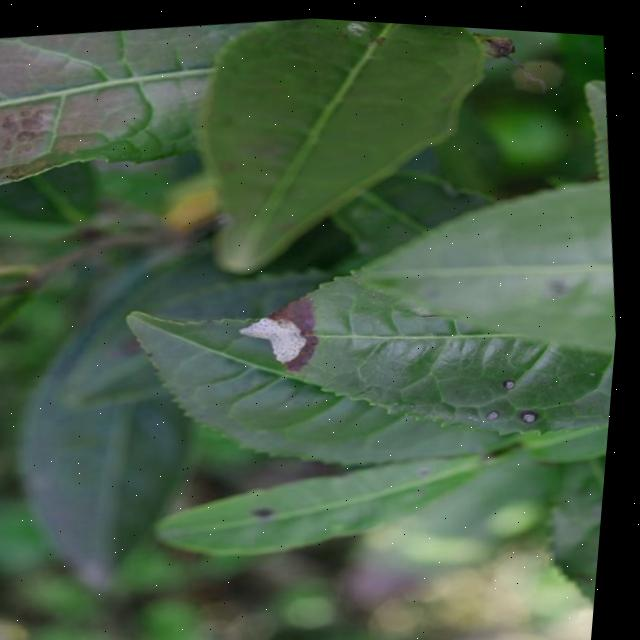Tea cloud leaf blight: (235, 274, 333, 376)
